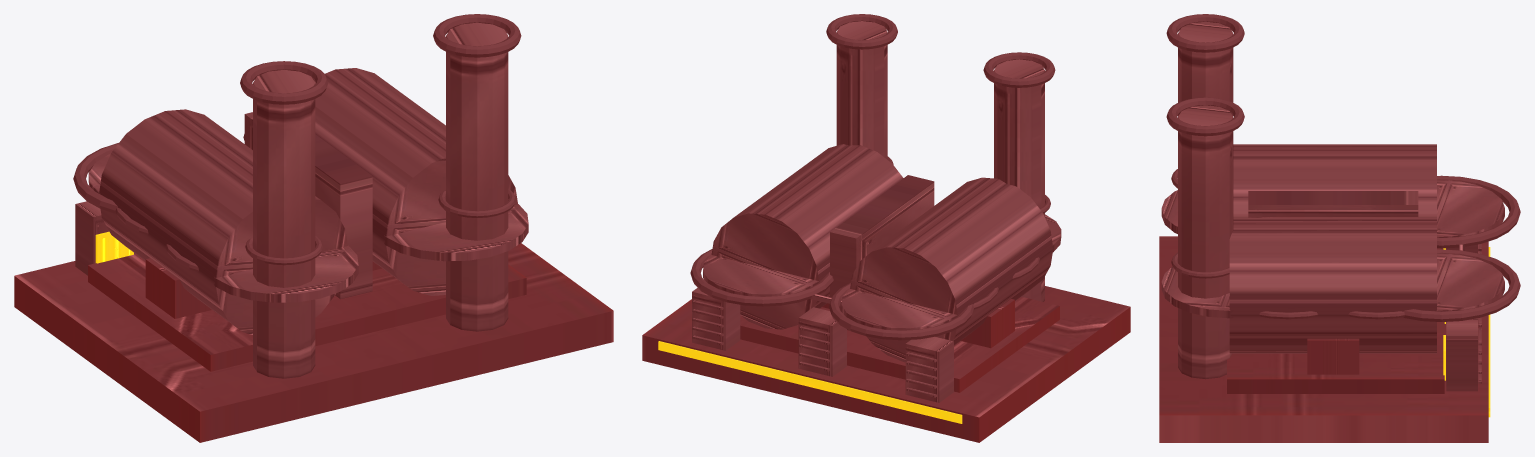
Rendered from crimson_turbine_station.glb.
3 views of the same model, side by side, from view 1: azimuth 30°, elevation 25°; view 2: azimuth 150°, elevation 25°; view 3: azimuth 270°, elevation 25° (orthographic). The views are drawn at different scales.
Visible parts, largest first — view 1: CrimsonTurbineStation; view 2: CrimsonTurbineStation; view 3: CrimsonTurbineStation.
Boxes of the visible parts, box(x1,y1,x2,y2) form: CrimsonTurbineStation: box(14, 14, 613, 442); CrimsonTurbineStation: box(642, 14, 1130, 442); CrimsonTurbineStation: box(1159, 14, 1520, 442).
Bounding box in the file's own units: 3.6 × 2.66 × 3.07.
Materials: 3 (3 with a texture image).
